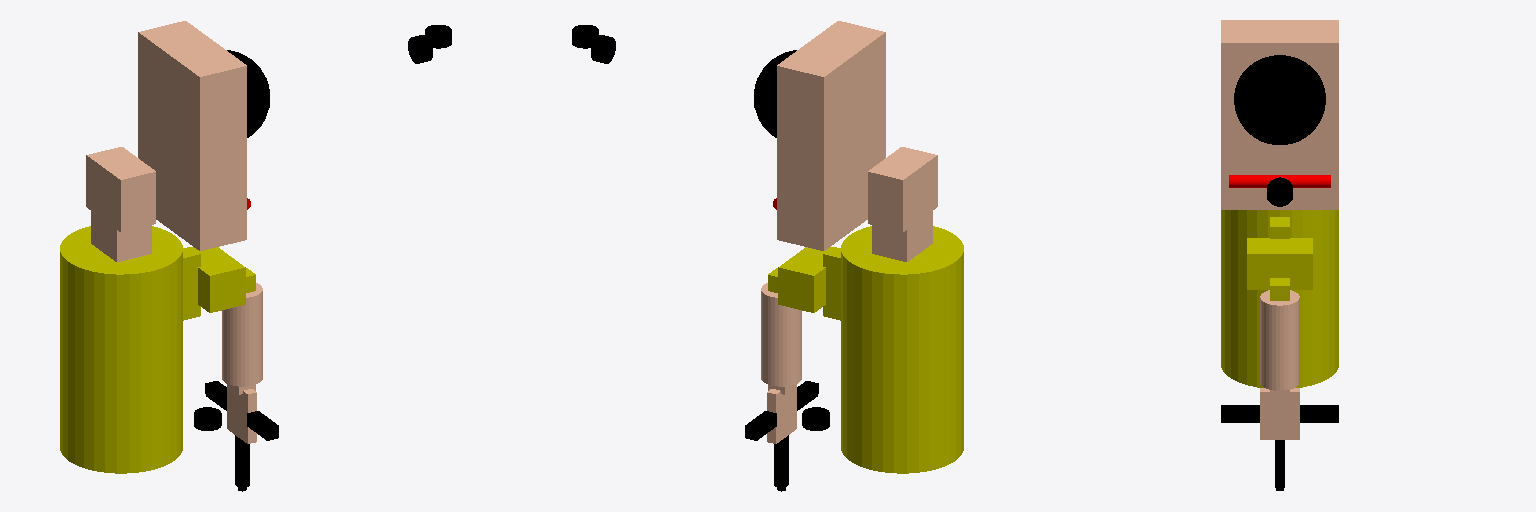
robot.urdf — cue_robot:
<?xml version="1.0"?>
<robot name="cue_robot">

    <!-- * * * Link Definitions * * * -->

     <link name="base_link">
        <visual>
            <origin xyz="0 0 0.0015" rpy="0 0 0"/>
            <geometry>
                <cylinder radius="0.09" length="0.003"/>
            </geometry>
            <material name="Cyan1">
           		<color rgba="0 0.9 0.9 1.0"/>
         	</material>
        </visual>
        <collision>
            <origin xyz="0 0 0.0015" rpy="0 0 0"/>
            <geometry>
                <cylinder radius="0.09" length="0.003"/>
            </geometry>
        </collision>
        <inertial>
            <origin xyz="0 0 0" rpy="0 0 0"/>
            <mass value="0"/>
            <inertia ixx="0" ixy="0" ixz="0" iyy="0" iyz="0" izz="0"/>
        </inertial>
    </link>

      <link name="torso_link">
        <visual>
            <origin xyz="0 0 0.243" rpy="0 0 0"/>
            <geometry>
                <cylinder radius="0.135" length="0.48"/>
            </geometry>
         	<material name="Yellow2">
                <color rgba="0.8 0.8 0 1.0"/>
            </material>
       </visual>
        <collision>
            <origin xyz="0 0 0.243" rpy="0 0 0"/>
            <geometry>
                <cylinder radius="0.135" length="0.48"/>
            </geometry>
        </collision>
        <inertial>
            <origin xyz="0 0 0" rpy="0 0 0"/>
            <mass value="0"/>
            <inertia ixx="0" ixy="0" ixz="0" iyy="0" iyz="0" izz="0"/>
        </inertial>
    </link>
    
    <link name="head_pan_link">
        <visual>
            <origin xyz="0 0 0" rpy="0 0 0"/>
            <geometry>
                <box size="0.15 0.135 0.135"/>
            </geometry>
         	<material name="Skin2">
                <color rgba="0.95 0.76 0.65 1.0"/>
            </material>
       </visual>
        <collision>
            <origin xyz="0 0 0" rpy="0 0 0"/>
            <geometry>
                <box size="0.15 0.135 0.135"/>
            </geometry>
        </collision>
        <inertial>
            <origin xyz="0 0 0" rpy="0 0 0"/>
            <mass value="0"/>
            <inertia ixx="0" ixy="0" ixz="0" iyy="0" iyz="0" izz="0"/>
        </inertial>
    </link>
    
    <link name="head_tilt_link">
        <visual>
            <origin xyz="0 0 0.06" rpy="0 0 0"/>
            <geometry>
                <box size="0.09 0.114 0.12"/>
            </geometry>
         	<material name="Skin2">
                <color rgba="0.95 0.76 0.65 1.0"/>
            </material>
       </visual>
        <collision>
            <origin xyz="0 0 0.06" rpy="0 0 0"/>
            <geometry>
                <box size="0.09 0.114 0.12"/>
            </geometry>
        </collision>
        <inertial>
            <origin xyz="0 0 0" rpy="0 0 0"/>
            <mass value="0"/>
            <inertia ixx="0" ixy="0" ixz="0" iyy="0" iyz="0" izz="0"/>
        </inertial>
    </link>
    
    <link name="neck_link">
        <visual>
            <origin xyz="0 0 0.063" rpy="0 0 0"/>
            <geometry>
                <box size="0.09 0.15 0.126"/>
            </geometry>
         	<material name="Skin2">
                <color rgba="0.95 0.76 0.65 1.0"/>
            </material>
       </visual>
        <collision>
            <origin xyz="0 0 0.063" rpy="0 0 0"/>
            <geometry>
                <box size="0.09 0.15 0.126"/>
            </geometry>
        </collision>
        <inertial>
            <origin xyz="0 0 0" rpy="0 0 0"/>
            <mass value="0"/>
            <inertia ixx="0" ixy="0" ixz="0" iyy="0" iyz="0" izz="0"/>
        </inertial>
    </link>
    
    <link name="head_link">
        <visual>
            <origin xyz="0 0 0.105" rpy="0 0 0"/>
            <geometry>
                <box size="0.12 0.27 0.42"/>
            </geometry>
         	<material name="Skin2">
                <color rgba="0.95 0.76 0.65 1.0"/>
            </material>
       </visual>
        <collision>
            <origin xyz="0 0 0.105" rpy="0 0 0"/>
            <geometry>
                <box size="0.12 0.27 0.42"/>
            </geometry>
        </collision>
        <inertial>
            <origin xyz="0 0 0" rpy="0 0 0"/>
            <mass value="0"/>
            <inertia ixx="0" ixy="0" ixz="0" iyy="0" iyz="0" izz="0"/>
        </inertial>
    </link>
    
    <link name="eyes_link">
        <visual>
            <origin xyz="0 0 0" rpy="0 0 0" />
            <geometry>
                <sphere radius="0.105" />
            </geometry>
         	<material name="Black">
                <color rgba="0 0 0 1.0"/>
            </material>
       </visual>
        <collision>
            <origin xyz="0 0 0" rpy="0 0 0" />
            <geometry>
                <sphere radius="0.105" />
            </geometry>
        </collision>
        <inertial>
            <origin xyz="0 0 0" rpy="0 0 0"/>
            <mass value="0"/>
            <inertia ixx="0" ixy="0" ixz="0" iyy="0" iyz="0" izz="0"/>
        </inertial>
    </link>

    <link name="gaze_link">
    <!--頭の動きにめっちゃ左右される-->
        <visual>
            <origin xyz="0 0 0" rpy="0 0 0" />
            <geometry>
                <cylinder radius="0.03" length="0.03"/>
            </geometry>
         	<material name="none">
                <color rgba="0 0 0 0"/>
            </material>
       </visual>
        <inertial>
            <origin xyz="0 0 0" rpy="0 0 0"/>
            <mass value="0"/>
            <inertia ixx="0" ixy="0" ixz="0" iyy="0" iyz="0" izz="0"/>
        </inertial>
    </link>

    <link name="gaze_link_2">
        <visual>
            <origin xyz="0 0 0" rpy="0 0 0" />
            <geometry>
                <cylinder radius="0.03" length="0.03"/>
            </geometry>
         	<material name="none">
                <color rgba="0 0 0 0"/>
            </material>
       </visual>
        <inertial>
            <origin xyz="0 0 0" rpy="0 0 0"/>
            <mass value="0"/>
            <inertia ixx="0" ixy="0" ixz="0" iyy="0" iyz="0" izz="0"/>
        </inertial>
    </link>
    



  <link name="left_lip_link">
        <visual>
      <origin xyz="0 0.0375 0" rpy="1.57 0 0"/>
            <geometry>
        <cylinder radius="0.015" length="0.12"/>
            </geometry>
          <material name="Red">
        <color rgba="1.0 0 0 1.0"/>
      </material>
        </visual>
        <collision>
      <origin xyz="0 0.0375 0" rpy="1.57 0 0"/>
            <geometry>
        <cylinder radius="0.015" length="0.12"/>
            </geometry>
        </collision>
        <inertial>
            <origin xyz="0 0 0" rpy="0 0 0"/>
            <mass value="0"/>
            <inertia ixx="0" ixy="0" ixz="0" iyy="0" iyz="0" izz="0"/>
        </inertial>
    </link>

    <link name="right_lip_link">
        <visual>
      <origin xyz="0 -0.0375 0" rpy="1.57 0 0"/>
            <geometry>
                <cylinder radius="0.015" length="0.12"/>
            </geometry>
          <material name="Red">
            <color rgba="1.0 0 0 1.0"/>
            </material>
        </visual>
        <collision>
      <origin xyz="0 -0.0375 0" rpy="1.57 0 0"/>
            <geometry>
                <cylinder radius="0.015" length="0.12"/>
            </geometry>
        </collision>
        <inertial>
            <origin xyz="0 0 0" rpy="0 0 0"/>
            <mass value="0"/>
            <inertia ixx="0" ixy="0" ixz="0" iyy="0" iyz="0" izz="0"/>
        </inertial>
    </link>

    <link name="shoulder_link">
        <visual>
            <origin xyz="0 0 0" rpy="0 0 0"/>
            <geometry>
                <box size="0.075 0.045 0.15"/>
            </geometry>
         	<material name="Yellow2">
                <color rgba="0.8 0.8 0 1.0"/>
            </material>
       </visual>
        <collision>
            <origin xyz="0 0 0" rpy="0 0 0"/>
            <geometry>
                <box size="0.075 0.045 0.15"/>
            </geometry>
        </collision>
        <inertial>
            <origin xyz="0 0 0" rpy="0 0 0"/>
            <mass value="0"/>
            <inertia ixx="0" ixy="0" ixz="0" iyy="0" iyz="0" izz="0"/>
        </inertial>
    </link>
    
    <link name="shoulder_yaw_link">
        <visual>
            <origin xyz="0 0 0" rpy="0 0 0"/>
            <geometry>
                <box size="0.09 0.15 0.09"/>
            </geometry>
         	<material name="Yellow2">
                <color rgba="0.8 0.8 0 1.0"/>
            </material>
       </visual>
        <collision>
            <origin xyz="0 0 0" rpy="0 0 0"/>
            <geometry>
                <box size="0.09 0.15 0.09"/>
            </geometry>
        </collision>
        <inertial>
            <origin xyz="0 0 0" rpy="0 0 0"/>
            <mass value="0"/>
            <inertia ixx="0" ixy="0" ixz="0" iyy="0" iyz="0" izz="0"/>
        </inertial>
    </link>
    
    <link name="shoulder_pitch_link">
        <visual>
            <origin xyz="0 0 0" rpy="1.57 0 0"/>
            <geometry>
                <box size="0.045 0.045 0.045"/>
            </geometry>
         	<material name="Yellow2">
                <color rgba="0.8 0.8 0 1.0"/>
            </material>
       </visual>
        <collision>
            <origin xyz="0 0 0" rpy="1.57 0 0"/>
            <geometry>
                <box size="0.045 0.045 0.045"/>
            </geometry>
        </collision>
        <inertial>
            <origin xyz="0 0 0" rpy="0 0 0"/>
            <mass value="0"/>
            <inertia ixx="0" ixy="0" ixz="0" iyy="0" iyz="0" izz="0"/>
        </inertial>
    </link>
    
    <link name="upper_arm_link">
        <visual>
            <origin xyz="0 0 0" rpy="0 0 0"/>
            <geometry>
                <cylinder radius="0.045" length="0.0675"/>
            </geometry>
         	<material name="Skin2">
                <color rgba="0.95 0.76 0.65 1.0"/>
            </material>
       </visual>
        <collision>
            <origin xyz="0 0 0" rpy="0 0 0"/>
            <geometry>
                <cylinder radius="0.021" length="0.0675"/>
            </geometry>
        </collision>
        <inertial>
            <origin xyz="0 0 0" rpy="0 0 0"/>
            <mass value="0"/>
            <inertia ixx="0" ixy="0" ixz="0" iyy="0" iyz="0" izz="0"/>
        </inertial>
    </link>
    
    <link name="elbow_link">
        <visual>
            <origin xyz="0 0 0" rpy="0 0 1.57"/>
            <geometry>
                <box size="0.045 0.045 0.01"/>
            </geometry>
         	<material name="Skin2">
                <color rgba="0.95 0.76 0.65 1.0"/>
            </material>
       </visual>
        <collision>
            <origin xyz="0 0 0" rpy="0 0 1.57"/>
            <geometry>
                <box size="0.045 0.045 0.01"/>
            </geometry>
        </collision>
        <inertial>
            <origin xyz="0 0 0" rpy="0 0 0"/>
            <mass value="0"/>
            <inertia ixx="0" ixy="0" ixz="0" iyy="0" iyz="0" izz="0"/>
        </inertial>
    </link>
    
    <link name="lower_arm_link">
        <visual>
            <origin xyz="0 0 0" rpy="0 0 0"/>
            <geometry>
                <cylinder radius="0.045" length="0.151875"/>
            </geometry>
         	<material name="Skin2">
                <color rgba="0.95 0.76 0.65 1.0"/>
            </material>
       </visual>
        <collision>
            <origin xyz="0 0 0" rpy="0 0 0"/>
            <geometry>
                <cylinder radius="0.021" length="0.151875"/>
            </geometry>
        </collision>
        <inertial>
            <origin xyz="0 0 0" rpy="0 0 0"/>
            <mass value="0"/>
            <inertia ixx="0" ixy="0" ixz="0" iyy="0" iyz="0" izz="0"/>
        </inertial>
    </link>

    <link name="point_link">
        <visual>
            <origin xyz="0 0 0" rpy="0 0 0"/>
            <geometry>
                <cylinder radius="0.01" length="0.01"/>
            </geometry>
         	<material name="null">
                <color rgba="0 0 0 0"/>
            </material>
       </visual>
        <inertial>
            <origin xyz="0 0 0" rpy="0 0 0"/>
            <mass value="0"/>
            <inertia ixx="0" ixy="0" ixz="0" iyy="0" iyz="0" izz="0"/>
        </inertial>
    </link>
    
    <link name="roll_wrist_link">
        <visual>
            <origin xyz="0 0 0" rpy="1.57 0 0"/>
            <geometry>
                <box size="0.045 0.045 0.045"/>
            </geometry>
         	<material name="Skin2">
                <color rgba="0.95 0.76 0.65 1.0"/>
            </material>
       </visual>
        <collision>
            <origin xyz="0 0 0" rpy="1.57 0 0"/>
            <geometry>
                <box size="0.045 0.045 0.045"/>
            </geometry>
        </collision>
        <inertial>
            <origin xyz="0 0 0" rpy="0 0 0"/>
            <mass value="0"/>
            <inertia ixx="0" ixy="0" ixz="0" iyy="0" iyz="0" izz="0"/>
        </inertial>
    </link>

    <link name="pitch_wrist_link">
        <visual>
            <origin xyz="0 0 0" rpy="0 0 0"/>
            <geometry>
                <box size="0.045 0.045 0.01"/>
            </geometry>
         	<material name="Skin2">
                <color rgba="0.95 0.76 0.65 1.0"/>
            </material>
       </visual>
        <collision>
            <origin xyz="0 0 0" rpy="0 0 0"/>
            <geometry>
                <box size="0.045 0.045 0.01"/>
            </geometry>
        </collision>
        <inertial>
            <origin xyz="0 0 0" rpy="0 0 0"/>
            <mass value="0"/>
            <inertia ixx="0" ixy="0" ixz="0" iyy="0" iyz="0" izz="0"/>
        </inertial>
    </link>
    
    <link name="hand_link">
        <visual>
            <origin xyz="0 0 0" rpy="0 0 0"/>
            <geometry>
                <box size="0.024 0.090 0.12"/>
            </geometry>
         	<material name="Skin2">
                <color rgba="0.95 0.76 0.65 1.0"/>
            </material>
       </visual>
        <collision>
            <origin xyz="0 0 0" rpy="0 0 0"/>
            <geometry>
                <box size="0.024 0.090 0.12"/>
            </geometry>
        </collision>
        <inertial>
            <origin xyz="0 0 0" rpy="0 0 0"/>
            <mass value="0"/>
            <inertia ixx="0" ixy="0" ixz="0" iyy="0" iyz="0" izz="0"/>
        </inertial>
    </link>

    <link name="index_finger_link">
    <visual>
      <origin xyz="0 0 -0.06" rpy="0 0 0"/>
      <geometry>
        <box size="0.024 0.024 0.12"/>
      </geometry>
        <material name="Black">
            <color rgba="0 0 0 1.0"/>
            </material>
    </visual>
    <collision>
      <origin xyz="0 0 -0.06" rpy="0 0 0"/>
      <geometry>
        <box size="0.024 0.024 0.12"/>
      </geometry>
    </collision>
        <inertial>
            <origin xyz="0 0 0" rpy="0 0 0"/>
            <mass value="0"/>
            <inertia ixx="0" ixy="0" ixz="0" iyy="0" iyz="0" izz="0"/>
        </inertial>
  </link>

  <link name="thumb_link">
    <visual>
      <origin xyz="0 -0.045 0" rpy="-1.57 0 0"/>
      <geometry>
        <box size="0.03 0.03 0.09"/>
      </geometry>
        <material name="Black">
            <color rgba="0 0 0 1.0"/>
            </material>
    </visual>
    <collision>
      <origin xyz="0 -0.045 0" rpy="-1.57 0 0"/>
      <geometry>
        <box size="0.03 0.03 0.09"/>
      </geometry>
    </collision>
        <inertial>
            <origin xyz="0 0 0" rpy="0 0 0"/>
            <mass value="0"/>
            <inertia ixx="0" ixy="0" ixz="0" iyy="0" iyz="0" izz="0"/>
        </inertial>
  </link>

  <link name="little_finger_link">
        <visual>
        <origin xyz="0 0.045 0" rpy="1.57 0 0"/>
        <geometry>
            <box size="0.03 0.03 0.09"/>
        </geometry>
            <material name="Black">
                <color rgba="0 0 0 1.0"/>
            </material>
        </visual>
        <collision>
        <origin xyz="0 0.045 0" rpy="1.57 0 0"/>
        <geometry>
            <box size="0.03 0.03 0.09"/>
        </geometry>
        </collision>
        <inertial>
            <origin xyz="0 0 0" rpy="0 0 0"/>
            <mass value="0"/>
            <inertia ixx="0" ixy="0" ixz="0" iyy="0" iyz="0" izz="0"/>
        </inertial>
    </link>

    <link name="grasp_link">
        <visual>
        <origin xyz="0 0 0" rpy=" 0 0 0"/>
        <geometry>
            <cylinder radius="0.03" length="0.03"/>
        </geometry>
            <material name="null">
                <color rgba="0 0 0 0"/>
            </material>
        </visual>
        <inertial>
            <origin xyz="0 0 0" rpy="0 0 0"/>
            <mass value="0"/>
            <inertia ixx="0" ixy="0" ixz="0" iyy="0" iyz="0" izz="0"/>
        </inertial>
    </link>
    
    <!-- * * * Joint Definitions * * * -->
    <joint name="torso_joint" type="revolute">
        <parent link="base_link"/>
        <child link="torso_link"/>
        <origin xyz="0 0 0.0003" rpy="0 0 0"/>
        <axis xyz="0 0 1"/>
        <limit lower="-3.1416" upper="3.1416" effort="10" velocity="3"/>
      </joint>

    <joint name="head_pan_servo" type="fixed">
        <parent link="torso_link"/>
        <child link="head_pan_link"/>
        <origin xyz="0 0 0.3075" rpy="0 0 0"/>
    </joint>
    
    <joint name="head_pan_joint" type="revolute">
        <parent link="head_pan_link"/>
        <child link="head_tilt_link"/>
        <origin xyz="0 0 0.135" rpy="0 0 0"/>
        <axis xyz="0 0 1"/>
        <limit lower="-2.30" upper="2.30" effort="10" velocity="3"/>
      </joint>
      
     <joint name="head_tilt_joint" type="revolute">
        <parent link="head_tilt_link"/>
        <child link="neck_link"/>
        <origin xyz="0 0 0.12" rpy="0 0 0"/>
        <axis xyz="0 1 0"/>
        <limit lower="-1.57" upper="1.57" effort="10" velocity="3"/>
      </joint>
      
     <joint name="neck_joint" type="fixed">
        <parent link="neck_link"/>
        <child link="head_link"/>
        <origin xyz="0.18 0 0.045" rpy="0 0 0"/>
    </joint>	

    <joint name="eyes_joint" type="fixed">
        <parent link="head_link" />
        <child link="eyes_link" />
        <origin xyz="0.075 0 0.18" rpy="0 0 0" />
    </joint>

    <joint name="gaze_joint" type="fixed">
        <parent link="eyes_link" />
        <child link="gaze_link" />
        <origin xyz="0.5 0 0" rpy="0 1.57 0" />
    </joint>

    <joint name="gaze_joint_2" type="fixed">
        <parent link="head_pan_link" />
        <child link="gaze_link_2" />
        <origin xyz="0.8 0 0.5" rpy="0 0 0" />
    </joint>


  <joint name="left_lip_joint" type="revolute">
          <parent link="head_link"/>
          <child link="left_lip_link"/>
          <origin xyz="0.066 0.018 -0.03" rpy="0 0 0"/>
            <axis xyz="1 0 0"/>
            <limit lower="-0.8" upper="0.8" effort="10" velocity="5"/>
    </joint>

    <joint name="right_lip_joint" type="revolute">
          <parent link="head_link"/>
          <child link="right_lip_link"/>
          <origin xyz="0.066 -0.018 -0.03" rpy="0 0 0"/>
            <axis xyz="1 0 0"/>
            <limit lower="-0.8" upper="0.8" effort="10" velocity="5"/>
    </joint>
    
     <joint name="shoulder_joint" type="fixed">
        <parent link="torso_link"/>
        <child link="shoulder_link"/>
        <origin xyz="0.15 0 0.36" rpy="0 0 0"/>
    </joint>
    
     <joint name="shoulder_yaw_joint" type="revolute">
        <parent link="shoulder_link"/>
        <child link="shoulder_yaw_link"/>
        <origin xyz="0.075 0 0" rpy="0 0 0"/>
           <limit lower="-1.57" upper="1.57" effort="10" velocity="3"/>
        <axis xyz="0 0 1"/>
    </joint>
    
     <joint name="shoulder_pitch_joint" type="revolute">
        <parent link="shoulder_yaw_link"/>
        <child link="shoulder_pitch_link"/>
        <origin xyz="0.08 0 -0.03" rpy="0 0 0"/>
           <limit lower="-2.9" upper="0" effort="10" velocity="3"/>
        <axis xyz="0 1 0"/>
    </joint>
    
     <joint name="upper_arm_joint" type="fixed">
        <parent link="shoulder_pitch_link"/>
        <child link="upper_arm_link"/>
        <origin xyz="0 0 -0.05" rpy="0 0 0"/>
    </joint>
    
     <joint name="elbow_joint" type="revolute">
        <parent link="upper_arm_link"/>
        <child link="elbow_link"/>
        <origin xyz="0 0 -0.03" rpy="0 0 0"/>
           <limit lower="-2.5" upper="1.57" effort="10" velocity="3"/>
        <axis xyz="0 1 0"/>
    </joint>
    
     <joint name="lower_arm_joint" type="fixed">
        <parent link="elbow_link"/>
        <child link="lower_arm_link"/>
        <origin xyz="0 0 -0.0744" rpy="0 0 0"/>
    </joint>
    
     <joint name="roll_wrist_joint" type="revolute">
        <parent link="lower_arm_link"/>
        <child link="roll_wrist_link"/>  
        <origin xyz="0 0 -0.0775" rpy="0 0 0"/>
        <limit lower="-3.14" upper="3.14" effort="10" velocity="3"/>
        <axis xyz="0 0 1"/>
    </joint>

    <joint name="pitch_wrist_joint" type="revolute">
        <parent link="roll_wrist_link"/>  
        <child link="pitch_wrist_link"/>
        <origin xyz="0 0 -0.02" rpy="0 0 0"/>
        <limit lower="-1.57" upper="1.57" effort="10" velocity="3"/>
        <axis xyz="0 1 0"/>
    </joint>
    
     <joint name="hand_joint" type="fixed">
        <parent link="pitch_wrist_link"/>
        <child link="hand_link"/>
        <origin xyz="0 0 -0.0575" rpy="0 0 0"/>
    </joint>

  <joint name="index_joint" type="revolute">
      <parent link="hand_link"/>
      <child link="index_finger_link"/>
      <origin xyz="0.0 0 -0.06" rpy="0 0 0"/>
      <axis xyz="0 1 0"/>
      <limit lower="0" upper="2.8" effort="1" velocity="3"/>
  </joint>

  <joint name="thumb_joint" type="revolute">
      <parent link="hand_link"/>
      <child link="thumb_link"/>
      <origin xyz="0 -0.045 0" rpy="0 0 0"/>
      <axis xyz="0 0 1"/>
      <limit lower="-2.8" upper="0" effort="1" velocity="3"/>
  </joint>

  <joint name="little_finger_joint" type="revolute">
      <parent link="hand_link"/>
      <child link="little_finger_link"/>
      <origin xyz="0 0.045 0" rpy="0 0 0"/>
      <axis xyz="0 0 1"/>
      <limit lower="0" upper="2.8" effort="1" velocity="3"/>
  </joint>

  <joint name="grasp_joint" type="fixed">
      <parent link="hand_link"/>
      <child link="grasp_link"/>
      <origin xyz="-0.087 0 0" rpy="0 0 0"/>
  </joint>

  <joint name="point_joint" type="fixed">
      <parent link="lower_arm_link"/>
      <child link="point_link"/>
      <origin xyz="0 0 -0.34" rpy="0 0 0"/>
  </joint>
 
</robot>

--- Facts derived from the render (not from the file) ---
3 views of the same robot in one strip: view 1: azimuth 30°, elevation 25°; view 2: azimuth 150°, elevation 25°; view 3: azimuth 270°, elevation 25° (orthographic).
Robot: cue_robot — 25 links, 24 joints (13 revolute, 11 fixed); root link base_link; default pose: all joints at 0.
Visible links, largest first — view 1: torso_link, head_link, neck_link, shoulder_yaw_link, lower_arm_link, head_tilt_link, eyes_link, hand_link, shoulder_link, upper_arm_link, index_finger_link, thumb_link (+2 smaller); view 2: torso_link, head_link, neck_link, shoulder_yaw_link, lower_arm_link, head_tilt_link, eyes_link, hand_link, shoulder_link, upper_arm_link, index_finger_link, little_finger_link (+2 smaller); view 3: head_link, torso_link, eyes_link, shoulder_yaw_link, lower_arm_link, hand_link, upper_arm_link, thumb_link, little_finger_link, left_lip_link, right_lip_link, gaze_link_2.
Boxes of the visible links, x1=… form: torso_link: x1=60, y1=226, x2=182, y2=473; head_link: x1=138, y1=21, x2=246, y2=250; neck_link: x1=86, y1=147, x2=155, y2=231; shoulder_yaw_link: x1=192, y1=247, x2=245, y2=312; lower_arm_link: x1=222, y1=319, x2=262, y2=386; head_tilt_link: x1=91, y1=211, x2=151, y2=261; eyes_link: x1=227, y1=50, x2=269, y2=137; hand_link: x1=227, y1=384, x2=256, y2=443; shoulder_link: x1=183, y1=247, x2=200, y2=320; upper_arm_link: x1=222, y1=283, x2=262, y2=325; index_finger_link: x1=235, y1=435, x2=249, y2=488; thumb_link: x1=247, y1=411, x2=278, y2=440; torso_link: x1=841, y1=226, x2=963, y2=473; head_link: x1=777, y1=21, x2=885, y2=250; neck_link: x1=868, y1=147, x2=937, y2=231; shoulder_yaw_link: x1=778, y1=247, x2=831, y2=312; lower_arm_link: x1=761, y1=319, x2=801, y2=386; head_tilt_link: x1=872, y1=211, x2=932, y2=261; eyes_link: x1=754, y1=50, x2=796, y2=137; hand_link: x1=767, y1=384, x2=796, y2=443; shoulder_link: x1=823, y1=247, x2=840, y2=320; upper_arm_link: x1=761, y1=283, x2=801, y2=325; index_finger_link: x1=774, y1=435, x2=788, y2=488; little_finger_link: x1=745, y1=411, x2=776, y2=440; head_link: x1=1221, y1=20, x2=1338, y2=209; torso_link: x1=1221, y1=210, x2=1338, y2=387; eyes_link: x1=1234, y1=55, x2=1325, y2=144; shoulder_yaw_link: x1=1247, y1=238, x2=1312, y2=289; lower_arm_link: x1=1260, y1=325, x2=1299, y2=390; hand_link: x1=1260, y1=388, x2=1299, y2=439; upper_arm_link: x1=1260, y1=290, x2=1299, y2=331; thumb_link: x1=1221, y1=405, x2=1259, y2=422; little_finger_link: x1=1300, y1=405, x2=1338, y2=422; left_lip_link: x1=1278, y1=175, x2=1330, y2=187; right_lip_link: x1=1229, y1=175, x2=1277, y2=187; gaze_link_2: x1=1267, y1=181, x2=1292, y2=203.
Size in the robot's own frame: 0.965 by 0.27 by 1.09 metres.
Geometry: primitives only (box / cylinder / sphere), no mesh files.
